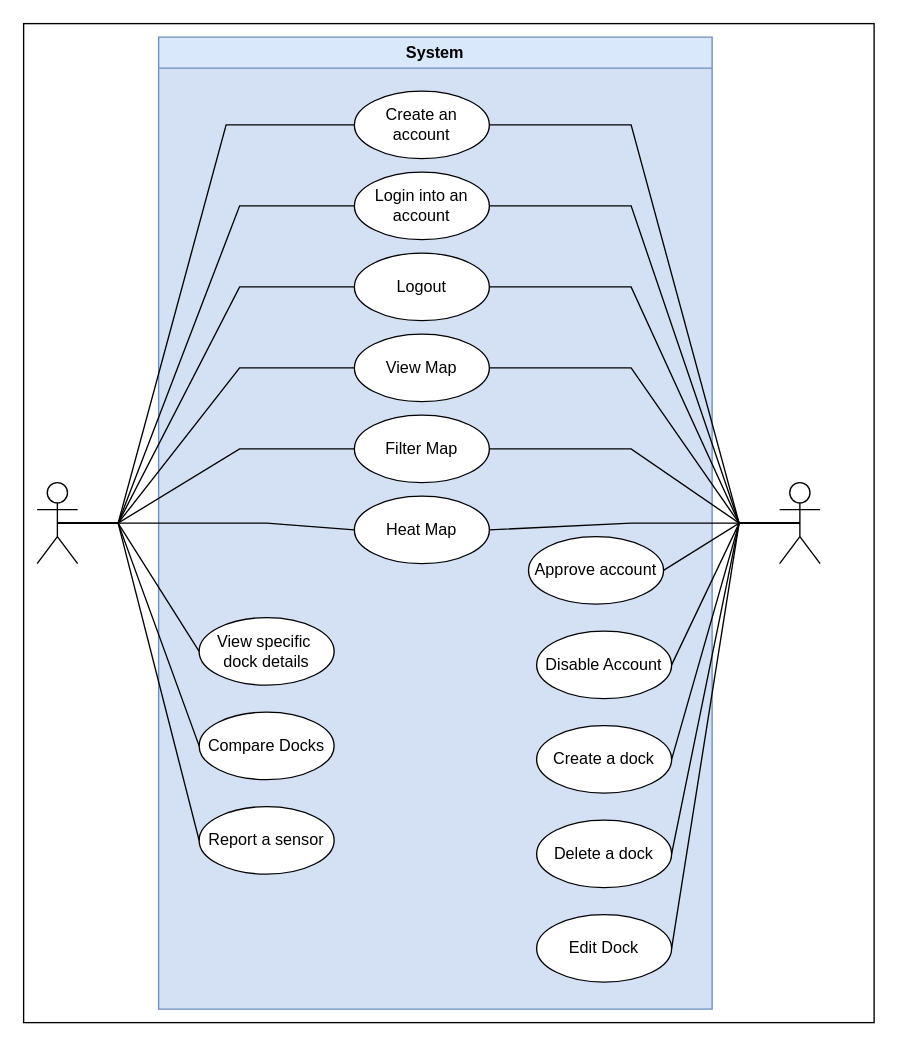
This 898x1046 diagram has some shape labels left out. The centre of each missing label's shape, as x and y in pixels:
"Admin" belongs at point (799, 522).
"User" belongs at point (57, 522).
